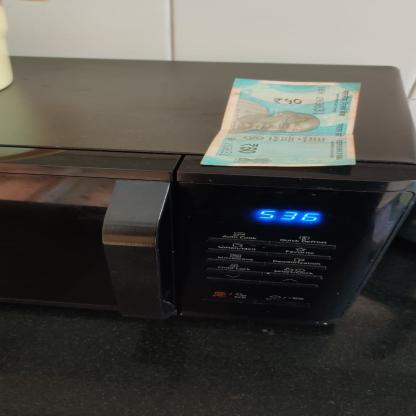New50Front: (196, 77, 367, 169)
